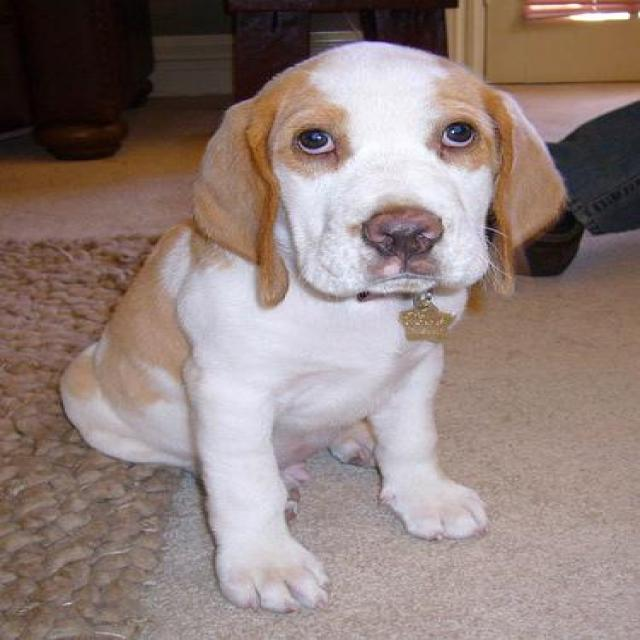beagle: (60, 41, 568, 618)
